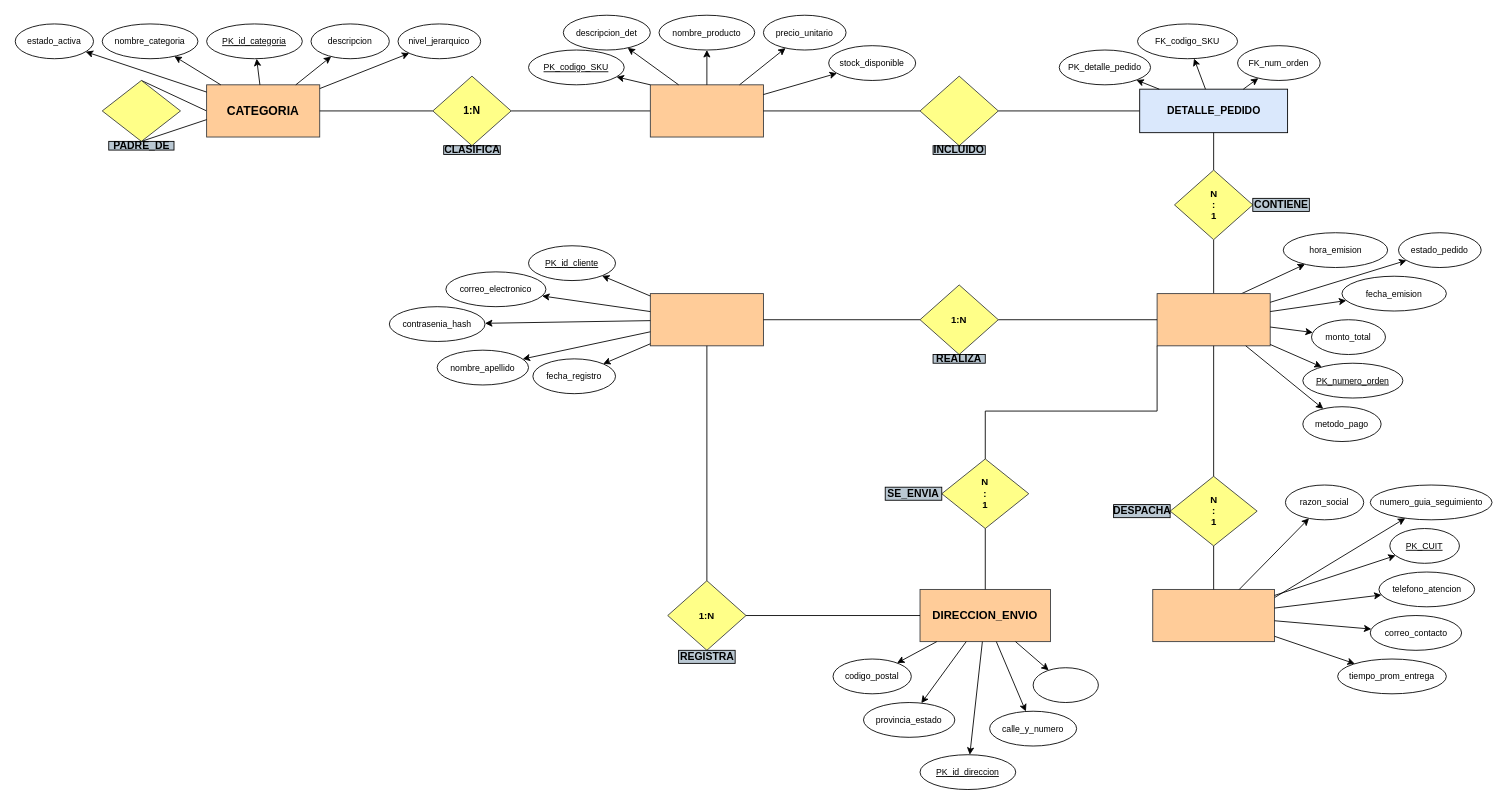
The diagram is 1508 pixels wide and 805 high, and some of its shapes have lost their labels. The shapes that lost their labels are listed below. From the top down, each one's centre as x and y in pixels, then its label:
At point (141, 110): "1 (padre) : N (hijos)".
At point (706, 110): "PRODUCTO".
At point (958, 110): "1 : N".
At point (706, 319): "CLIENTE".
At point (1213, 319): "PEDIDO".
At point (1213, 615): "TRANSPORTISTA".
At point (1065, 685): "ciudad".
